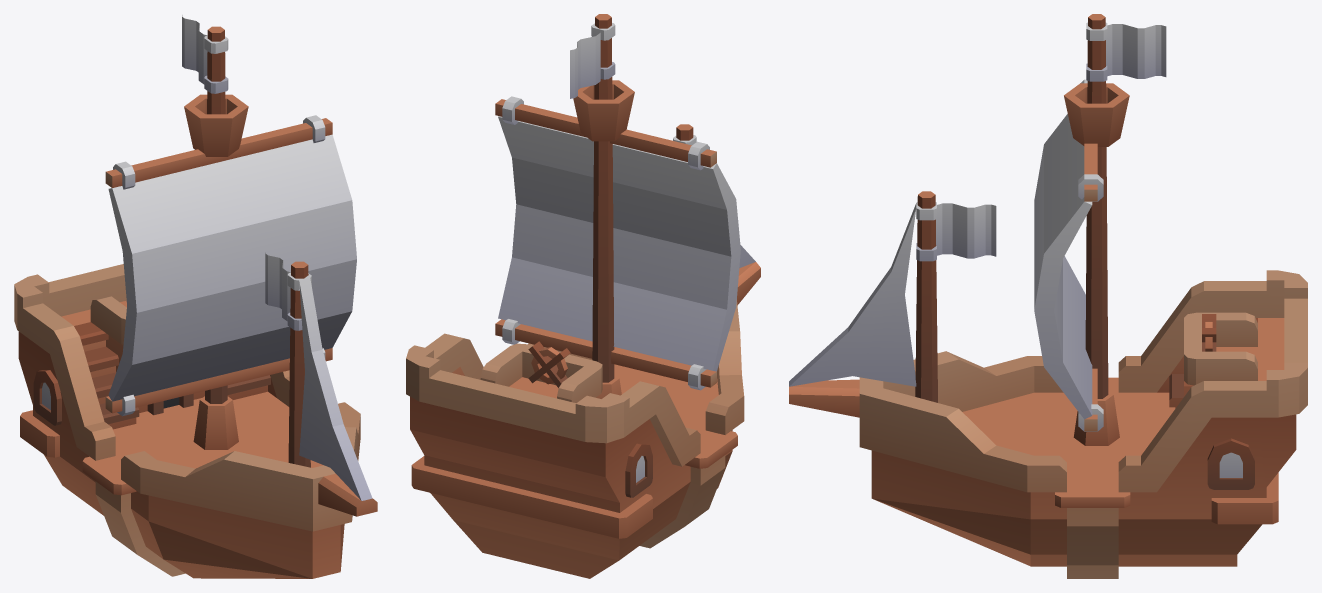
The model's file is i_ship.glb.
3 views of the same model, side by side, from view 1: azimuth 30°, elevation 25°; view 2: azimuth 150°, elevation 25°; view 3: azimuth 270°, elevation 25° (orthographic). The views are drawn at different scales.
Size of the model in its own units: 4.8 by 9.96 by 8.8.
